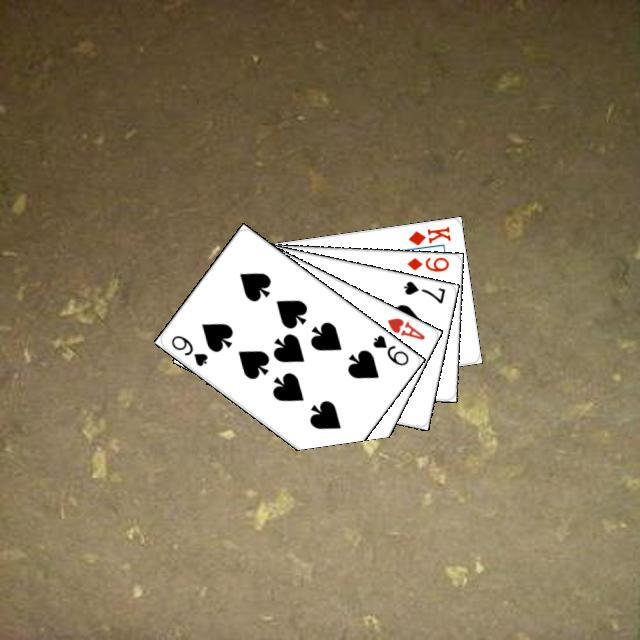7s: (398, 276, 447, 305)
9d: (402, 253, 450, 273)
9s: (166, 330, 209, 368), (368, 330, 411, 367)
Ah: (382, 313, 427, 341)
Kd: (403, 222, 452, 247)
